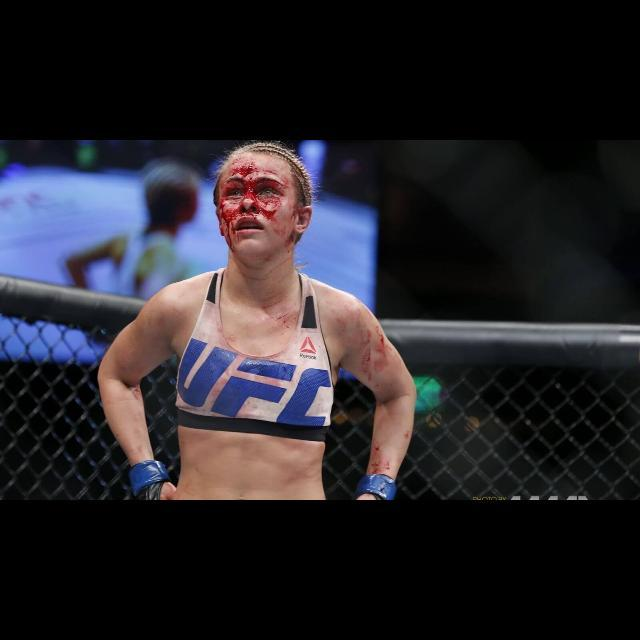blood: (332, 296, 415, 479), (216, 152, 312, 259), (222, 286, 301, 355)
